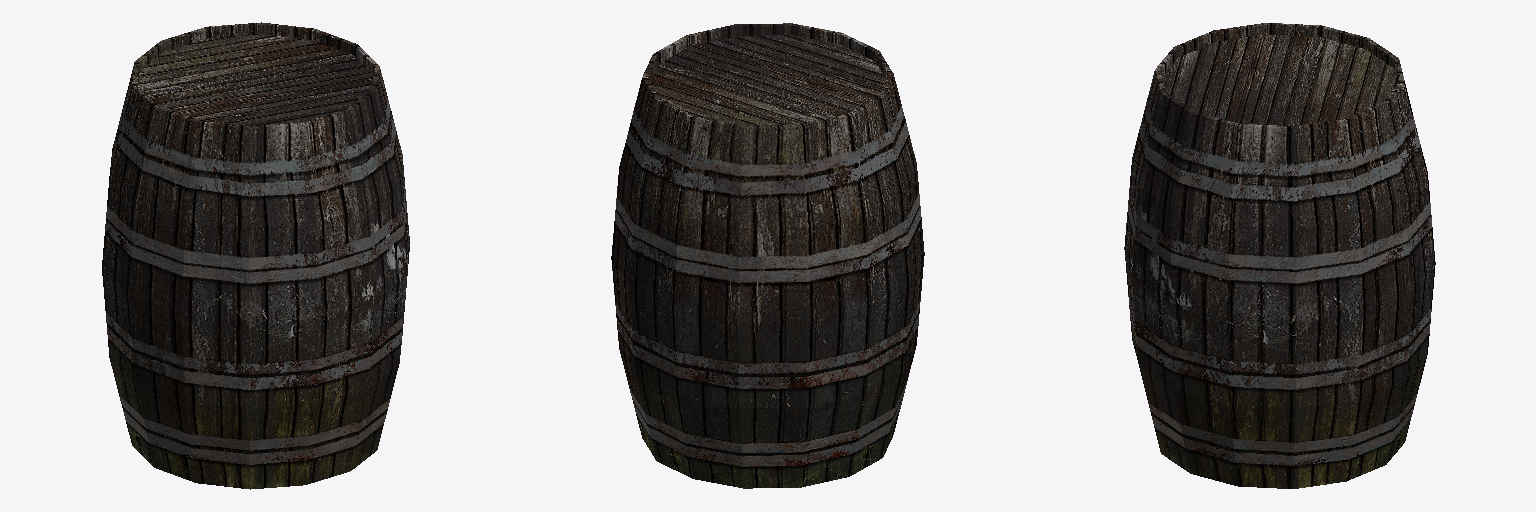
The picture shows the model from 3 angles: view 1: azimuth 30°, elevation 25°; view 2: azimuth 150°, elevation 25°; view 3: azimuth 270°, elevation 25°; orthographic projection.
Visible parts, largest first — view 1: big_wood_barrel; view 2: big_wood_barrel; view 3: big_wood_barrel.
Boxes of the visible parts, x1,y1,x2,y2 form: big_wood_barrel: [102, 22, 409, 489]; big_wood_barrel: [611, 23, 924, 488]; big_wood_barrel: [1124, 23, 1435, 488].
Bounding box in the file's own units: 1.24 × 1.58 × 1.24.
1 materials, 1 textured.